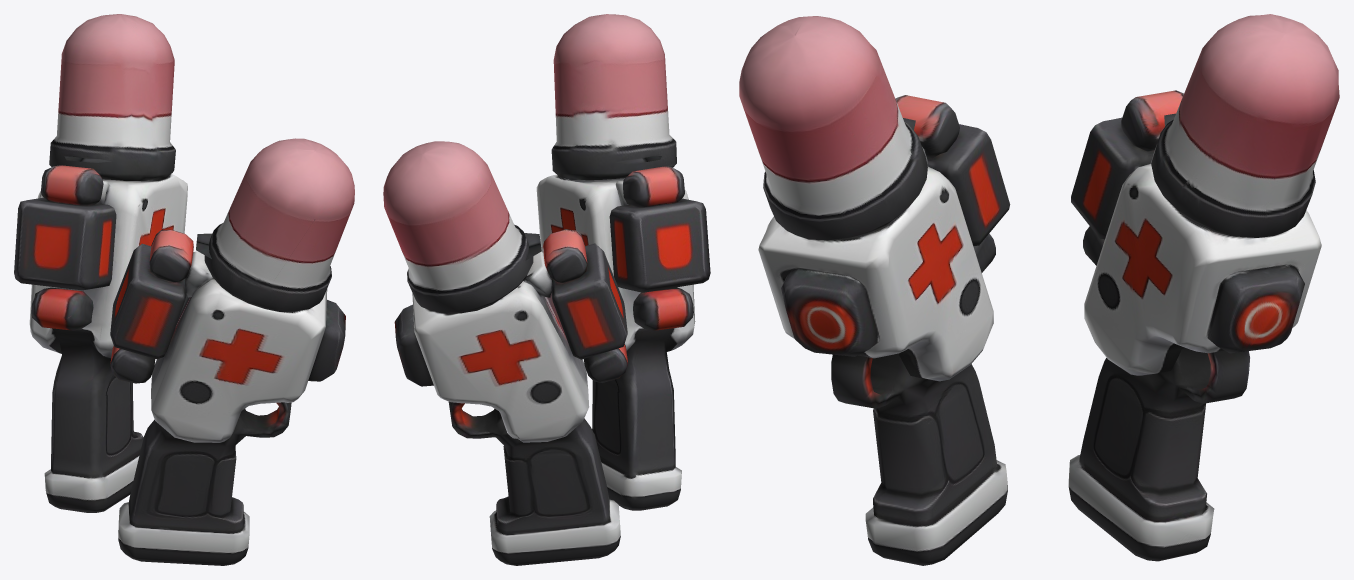
The picture shows the model from 3 angles, left to right: view 1: azimuth 30°, elevation 25°; view 2: azimuth 150°, elevation 25°; view 3: azimuth 270°, elevation 25°; orthographic projection. The views are drawn at different scales.
Visible parts, largest first — view 1: tripo_node_88963af3; view 2: tripo_node_88963af3; view 3: tripo_node_88963af3.
Boxes of the visible parts, <box> form: tripo_node_88963af3: <box>14,14,354,565</box>; tripo_node_88963af3: <box>383,14,710,565</box>; tripo_node_88963af3: <box>739,14,1339,565</box>.
Size of the model in its own units: 0.498 by 0.998 by 0.9824.
Materials: 1 (1 with a texture image).
